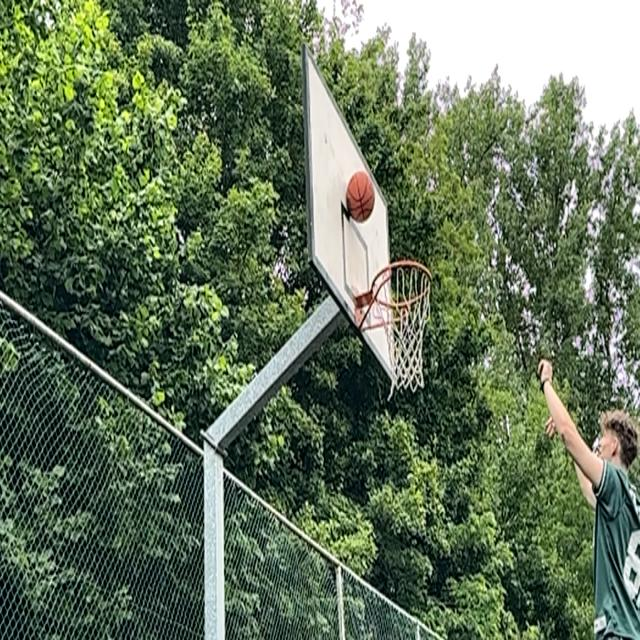rebound_hit: (343, 170, 375, 223)
